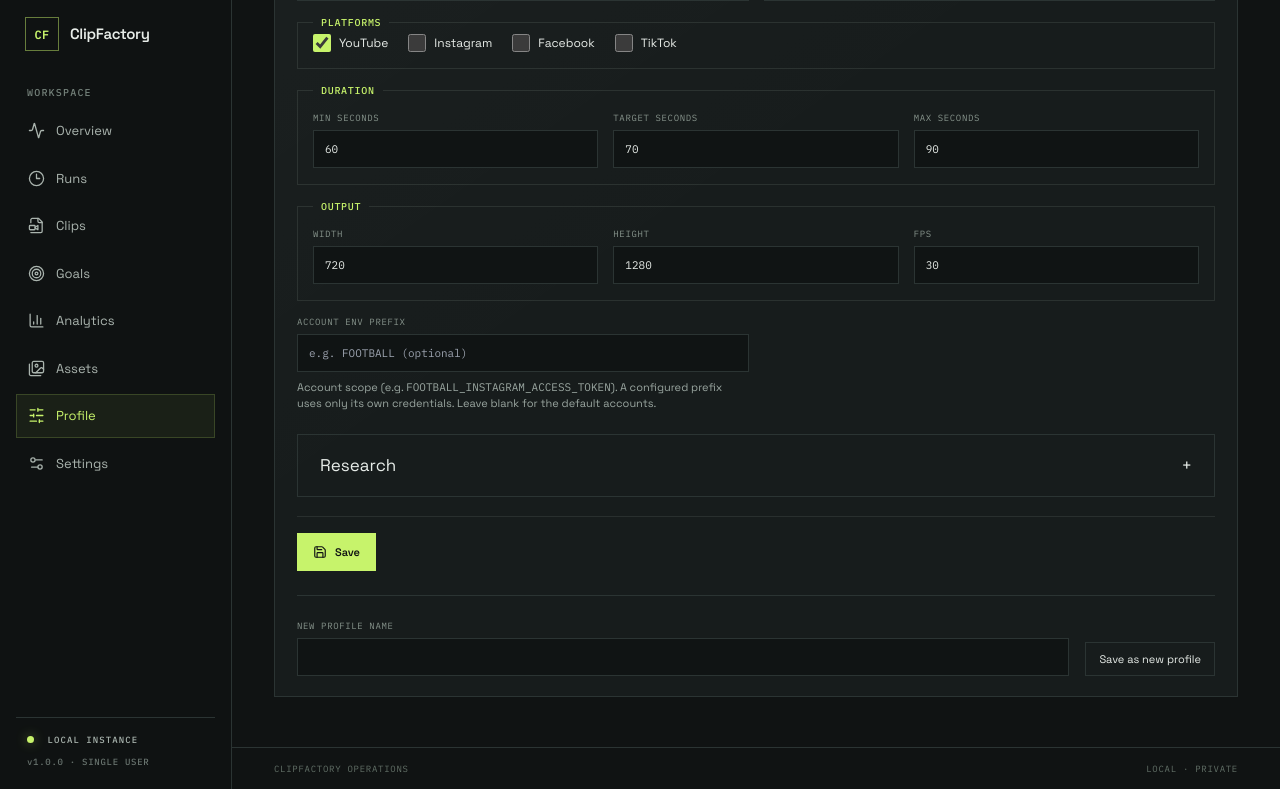
Test case: CF-REQ-607 reports name conflicts without discarding the profile draft
The width and height of the screenshot is (1280, 789).
(page scrolled)
Step 1. Type "Daily" into the field labelled "New profile name" → (683, 657), box [297, 638, 1069, 676]
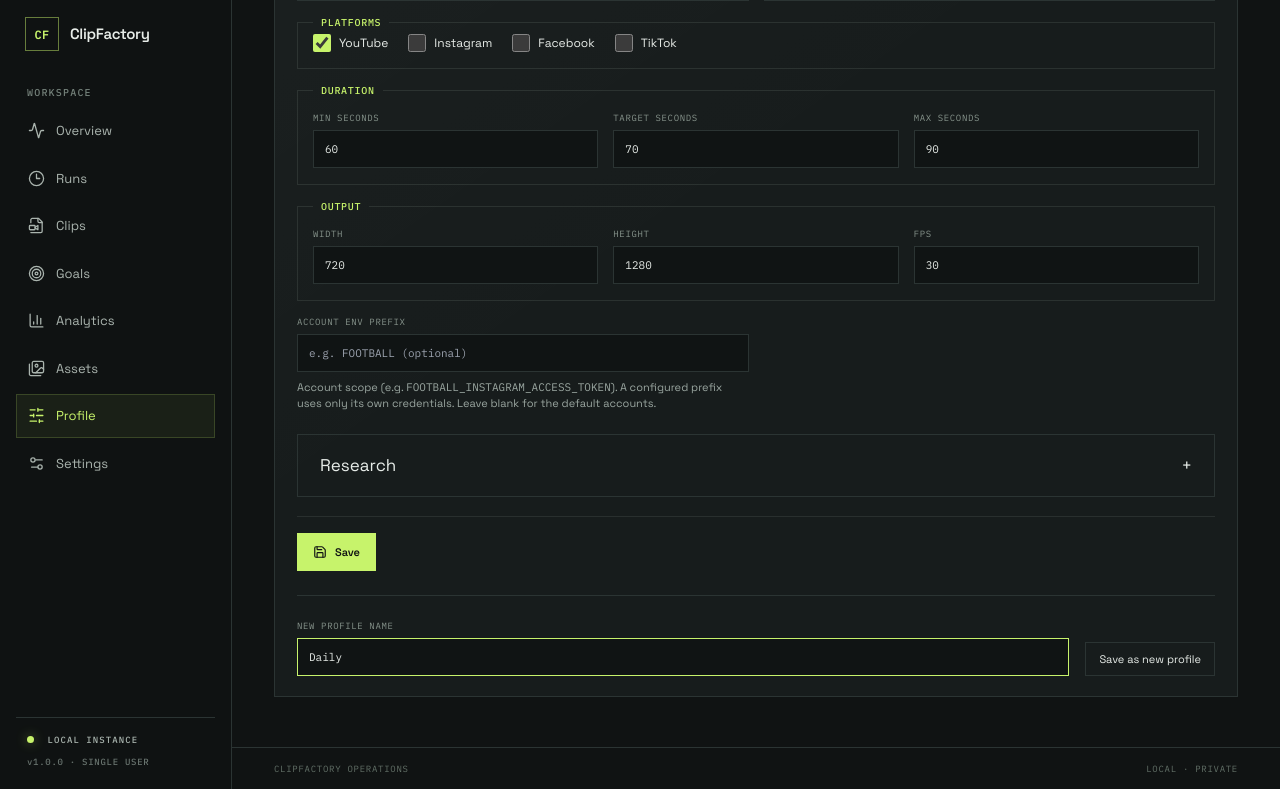
Step 2. Click the button "Save as new profile" → (1150, 659), box [1085, 642, 1215, 676]
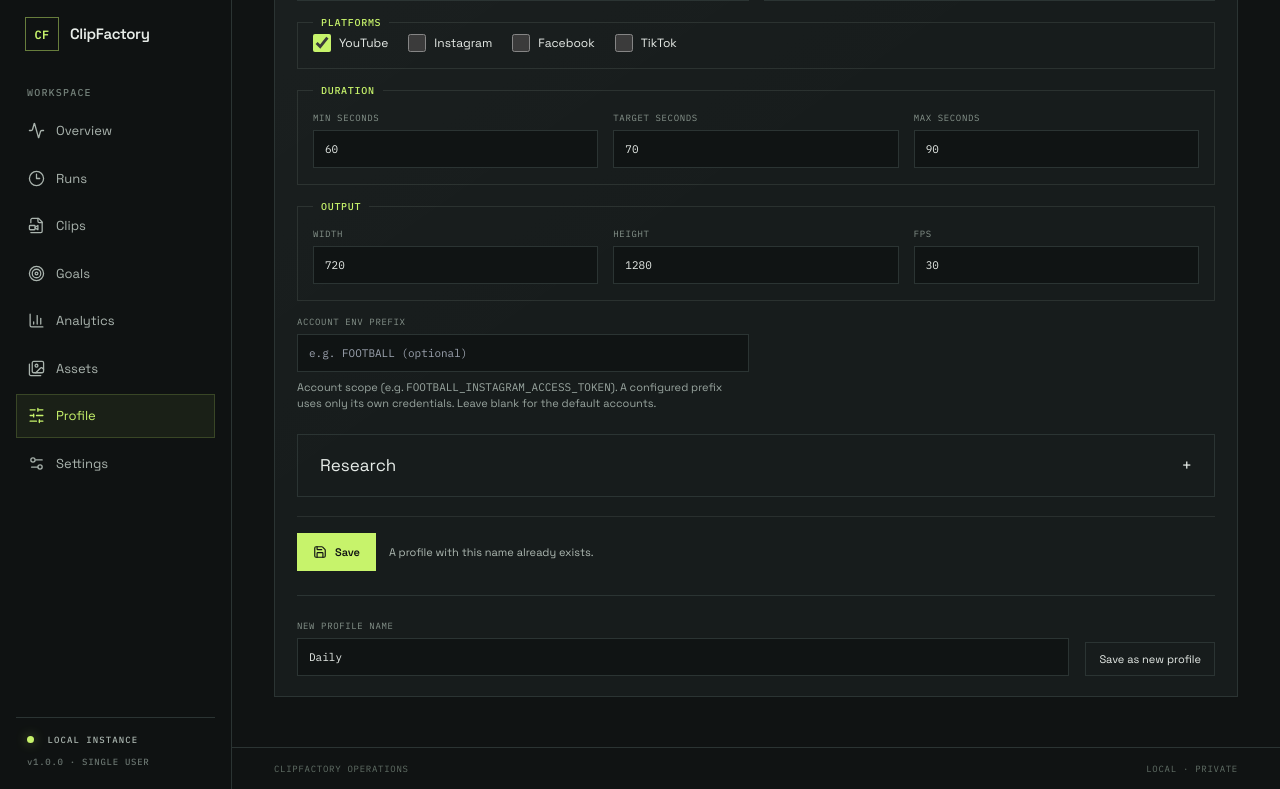
Now the text "A profile with this name already exists." is shown, box [389, 544, 594, 560]
